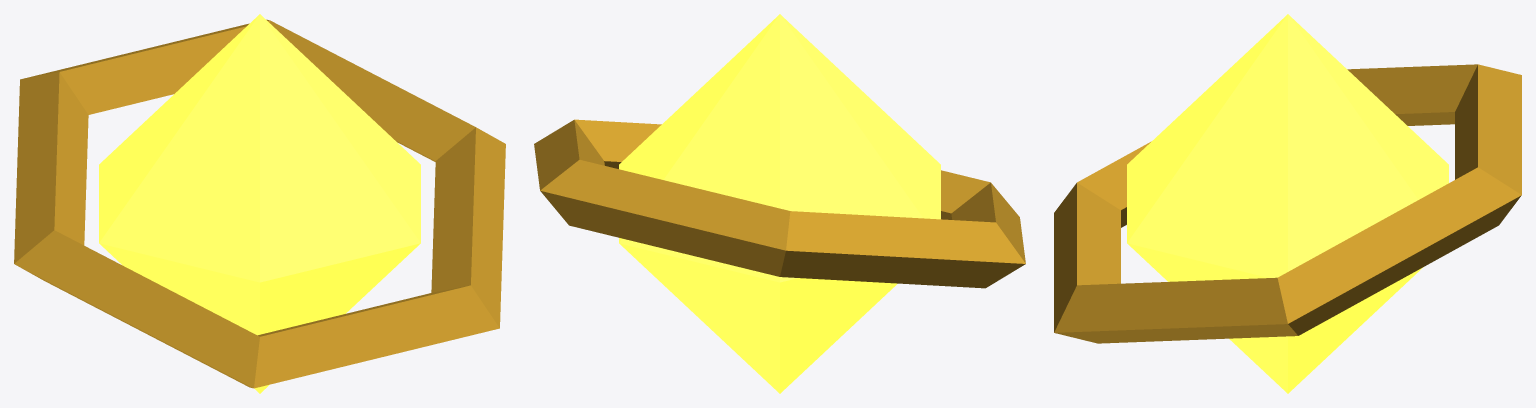
Rendered from gem.fbx.
3 renders of one model, left to right at view 1: azimuth 30°, elevation 25°; view 2: azimuth 150°, elevation 25°; view 3: azimuth 270°, elevation 25°, orthographic.
Parts seen in each view (by area): view 1: SM_gem_MAT_GlowGold, SM_gem_MAT_Gold; view 2: SM_gem_MAT_GlowGold, SM_gem_MAT_Gold; view 3: SM_gem_MAT_GlowGold, SM_gem_MAT_Gold.
Boxes of the visible parts, bbox=[...] form: SM_gem_MAT_GlowGold: bbox=[99, 14, 420, 393]; SM_gem_MAT_Gold: bbox=[14, 19, 505, 388]; SM_gem_MAT_GlowGold: bbox=[619, 14, 940, 393]; SM_gem_MAT_Gold: bbox=[534, 119, 1025, 288]; SM_gem_MAT_GlowGold: bbox=[1127, 14, 1448, 393]; SM_gem_MAT_Gold: bbox=[1054, 64, 1521, 343].
Bounding box in the file's own units: 0.4704 × 0.3472 × 0.3874.
